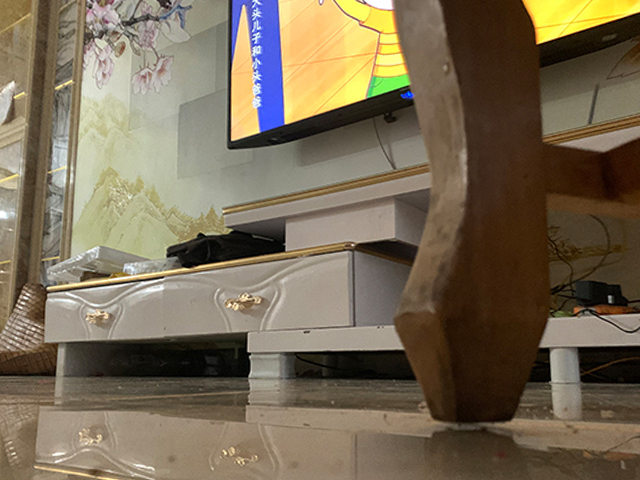cabinet: (43, 113, 640, 385)
